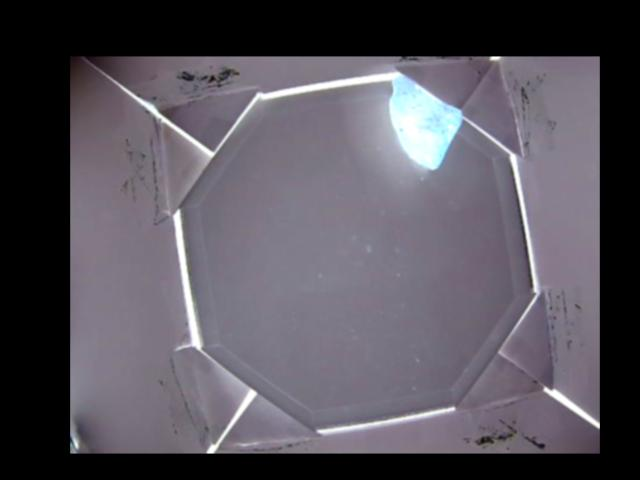Brisk: (388, 75, 463, 169)
